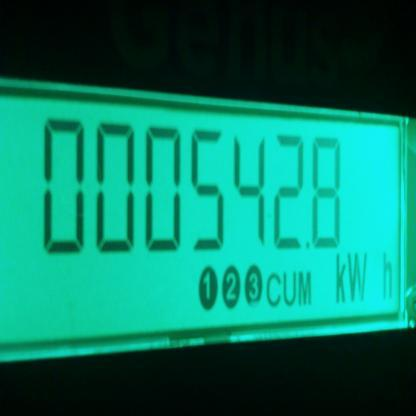.: (331, 251, 401, 306)
0: (301, 238, 316, 257)
1: (40, 113, 87, 255), (93, 119, 135, 254), (143, 123, 185, 254)
3: (273, 129, 304, 253)
5: (229, 127, 268, 248)
6: (188, 126, 228, 255)
9: (310, 129, 348, 253)
